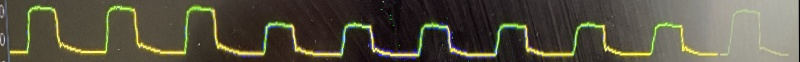normal_pressure: (0, 5, 794, 62)
